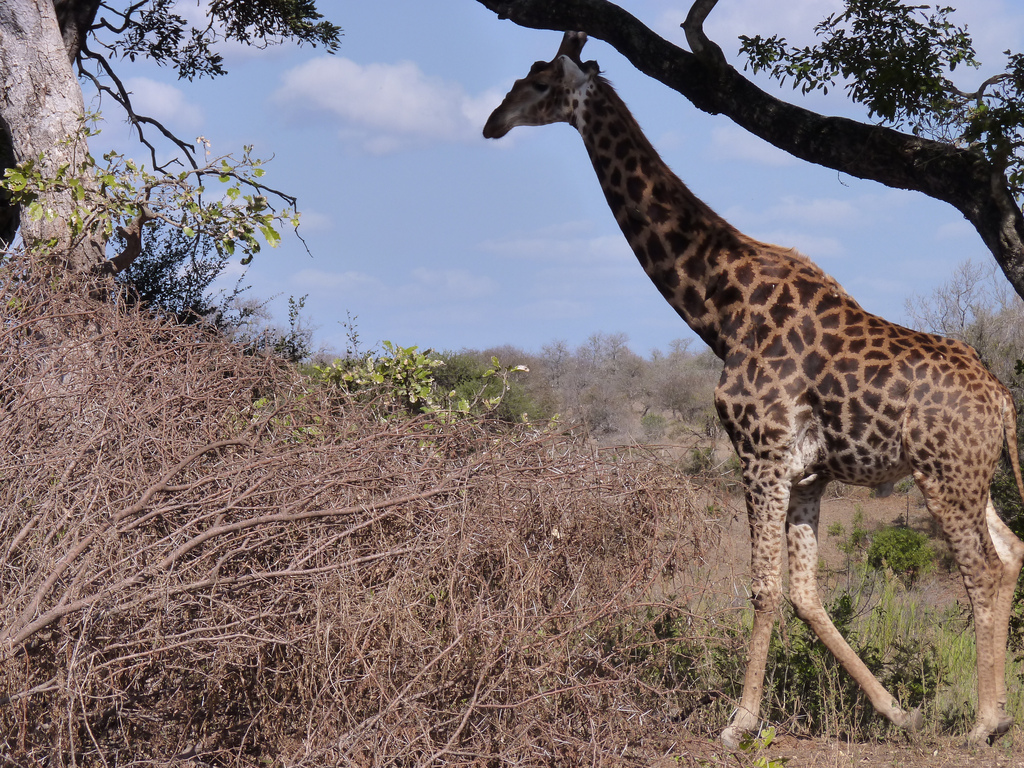giraffe: (488, 44, 996, 732)
